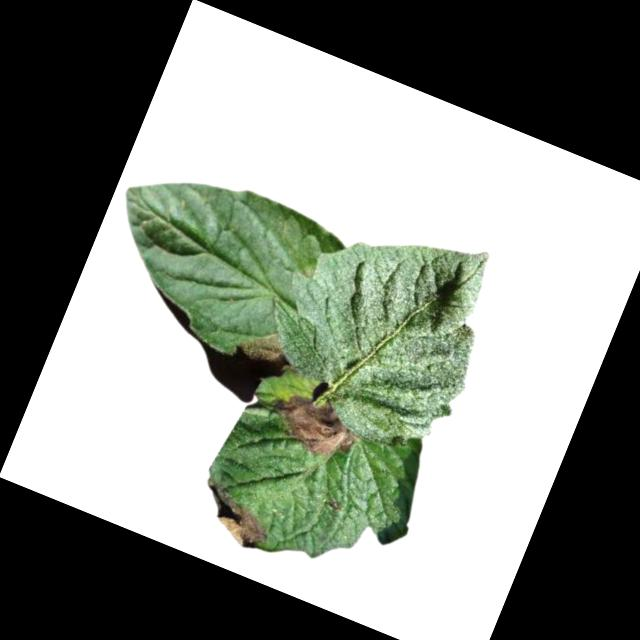Late_blight: (258, 379, 369, 469), (189, 478, 278, 554), (233, 320, 304, 375), (326, 496, 346, 512)
